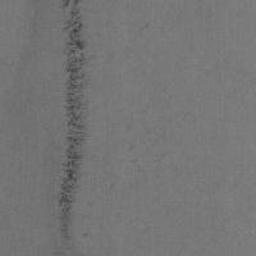Inclusion: (49, 0, 88, 256), (32, 21, 37, 34)
